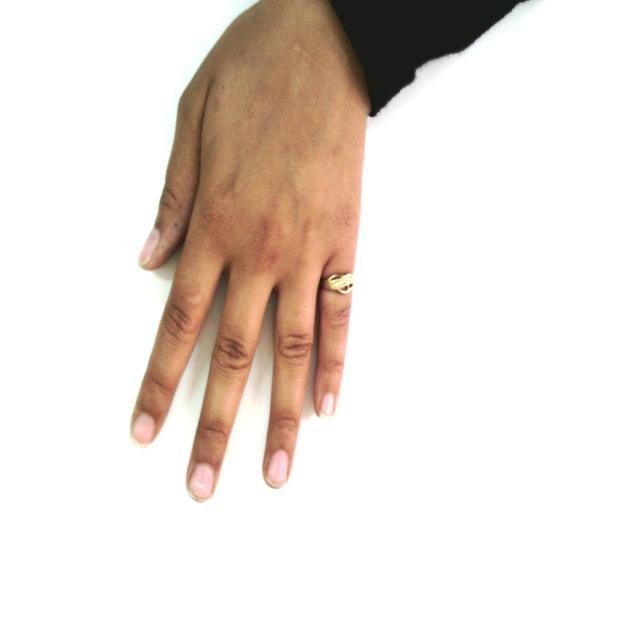Fingernail: (131, 411, 155, 447), (190, 464, 213, 499), (138, 229, 160, 265), (268, 449, 288, 485), (322, 392, 334, 416)
